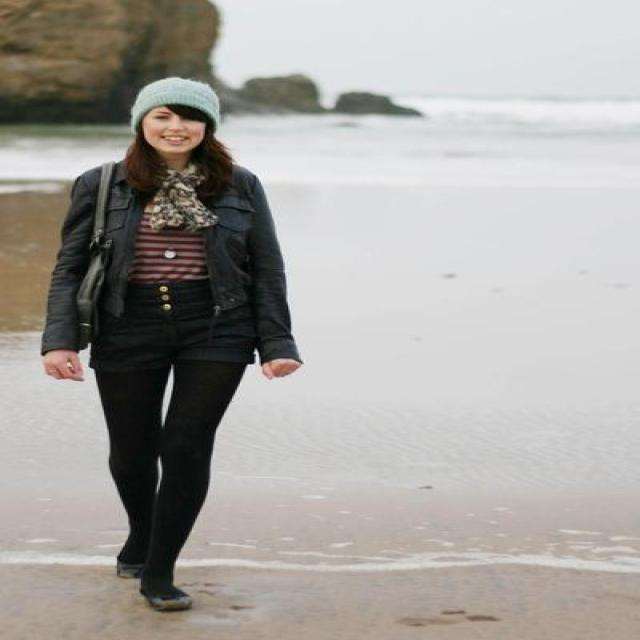bag: (82, 255, 100, 292)
hat: (134, 77, 248, 132)
jacket: (41, 166, 302, 363)
pants: (90, 354, 244, 596)
shirt: (141, 220, 200, 277)
shoe: (117, 540, 190, 612)
shorts: (72, 269, 267, 370)
